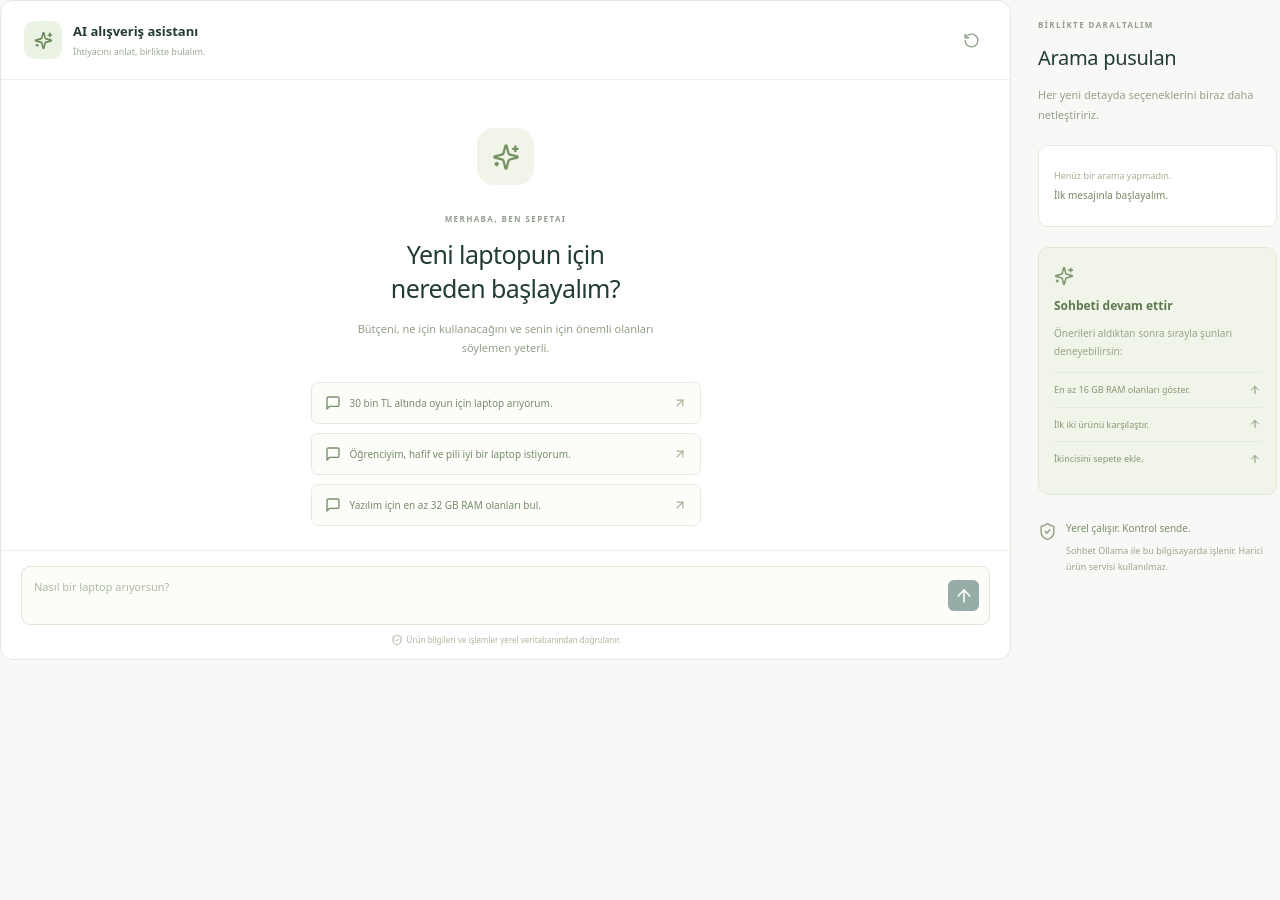
assistant UI › shows Ollama errors and retains the prompt for retry
Type "Laptop bul" into the text box named "Asistana mesaj".
click(486, 596); type("Laptop bul")  # box [34,576,938,615]
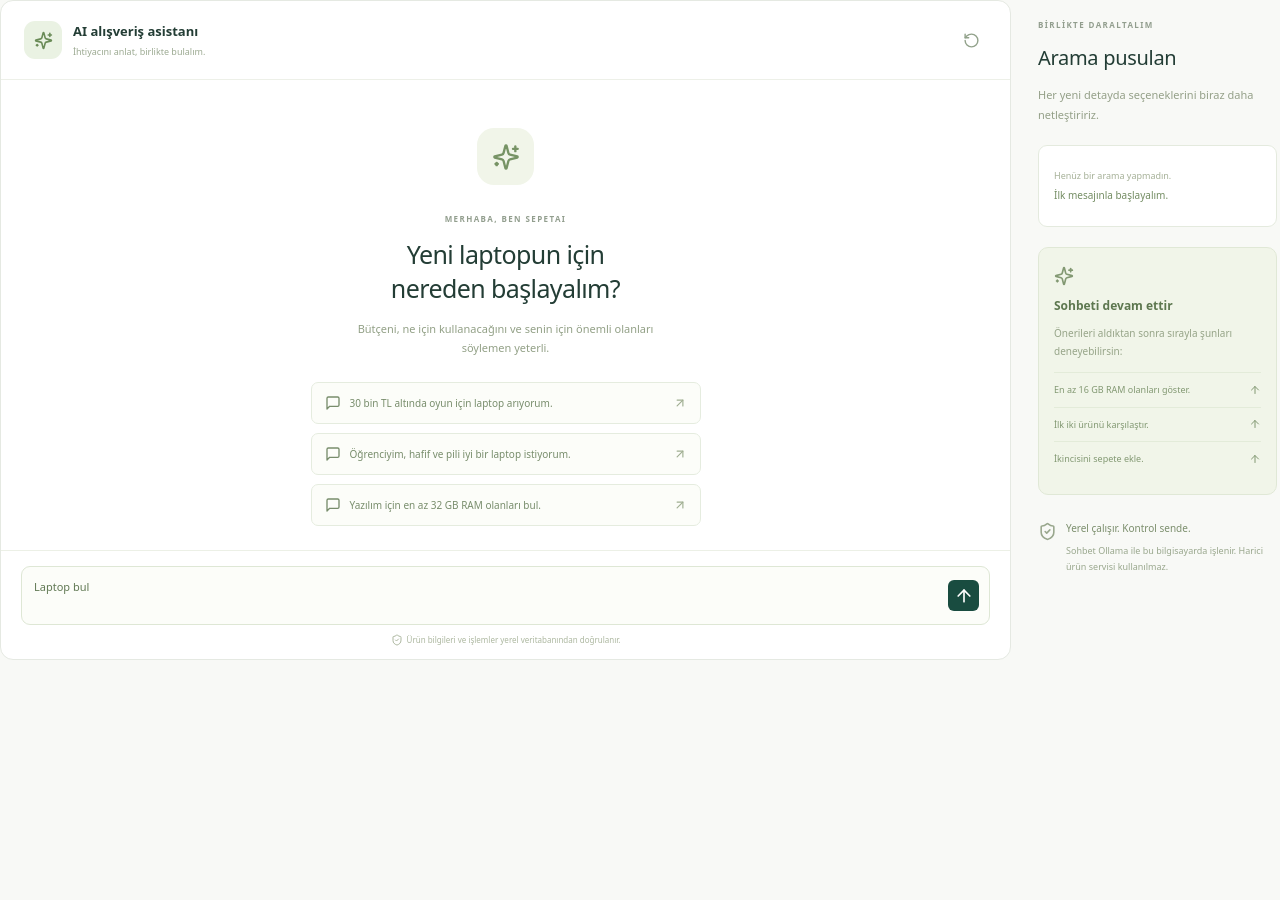
Click the button named "Mesajı gönder".
click(964, 596)  # box [948,580,979,611]
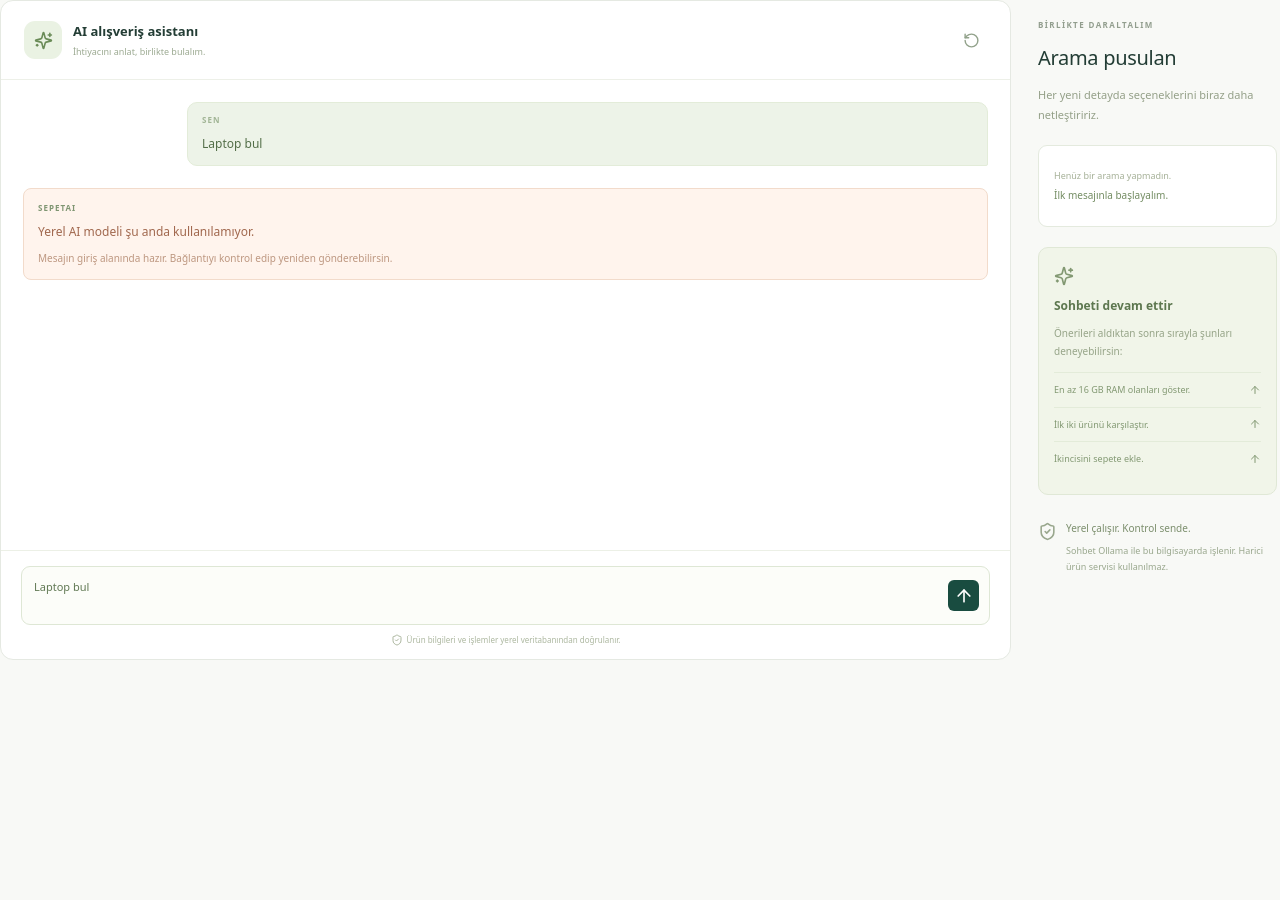
Now the button named "Mesajı gönder" is enabled, box [948,580,979,611]
Now the text "Yerel AI modeli şu anda kullanılamıyor." is shown, box [38,223,254,240]
